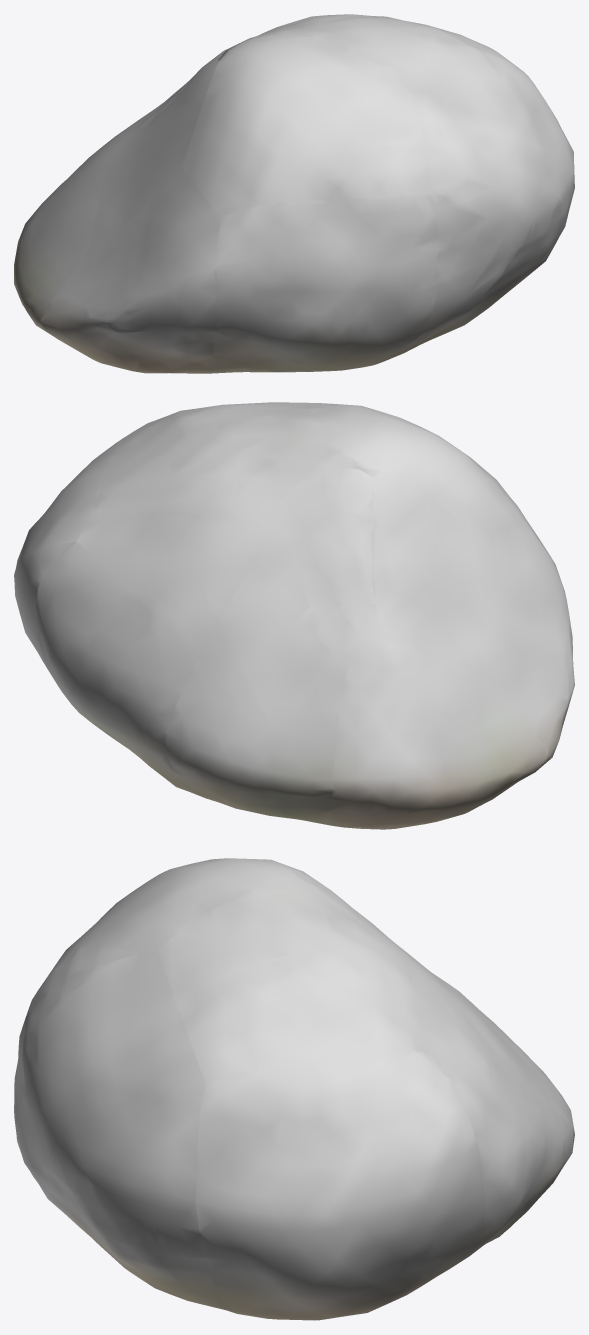
The model's file is gold_rock_v1.glb.
The picture shows the model from 3 angles, top to bottom: view 1: azimuth 30°, elevation 25°; view 2: azimuth 150°, elevation 25°; view 3: azimuth 270°, elevation 25°; orthographic projection. The views are drawn at different scales.
Visible parts, largest first — view 1: Chunk_05, Chunk_09, Chunk_06, Chunk_04, Chunk_03, Chunk_08, Chunk_07, Chunk_17, Chunk_24; view 2: Chunk_01, Chunk_02, Chunk_03, Chunk_07, Chunk_08, Chunk_04, Chunk_24, Chunk_09, Chunk_00, Chunk_26, Chunk_27; view 3: Chunk_00, Chunk_06, Chunk_07, Chunk_01, Chunk_09, Chunk_02.
Boxes of the visible parts, box(x1,y1,x2,y2) form: Chunk_05: box(212, 194, 438, 371); Chunk_09: box(182, 34, 429, 216); Chunk_06: box(384, 67, 574, 361); Chunk_04: box(42, 168, 219, 373); Chunk_03: box(14, 139, 116, 333); Chunk_08: box(89, 60, 219, 248); Chunk_07: box(257, 14, 522, 77); Chunk_17: box(170, 355, 305, 373); Chunk_24: box(112, 39, 246, 142); Chunk_01: box(35, 515, 264, 795); Chunk_02: box(165, 548, 348, 825); Chunk_03: box(329, 635, 548, 829); Chunk_07: box(98, 402, 326, 523); Chunk_08: box(373, 471, 495, 680); Chunk_04: box(477, 527, 574, 761); Chunk_24: box(264, 465, 377, 657); Chunk_09: box(305, 402, 524, 538); Chunk_00: box(14, 439, 121, 685); Chunk_26: box(260, 452, 329, 536); Chunk_27: box(328, 454, 378, 477); Chunk_00: box(195, 1050, 484, 1320); Chunk_06: box(14, 950, 237, 1313); Chunk_07: box(157, 881, 428, 1083); Chunk_01: box(395, 946, 565, 1264); Chunk_09: box(29, 858, 296, 1012); Chunk_02: box(413, 959, 574, 1179).
Size of the model in its own units: 2.75 by 1.56 by 2.28.
